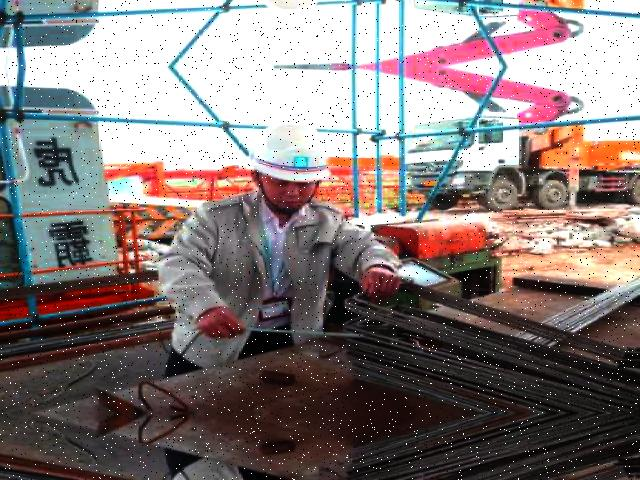Helmet: (250, 115, 336, 188)
